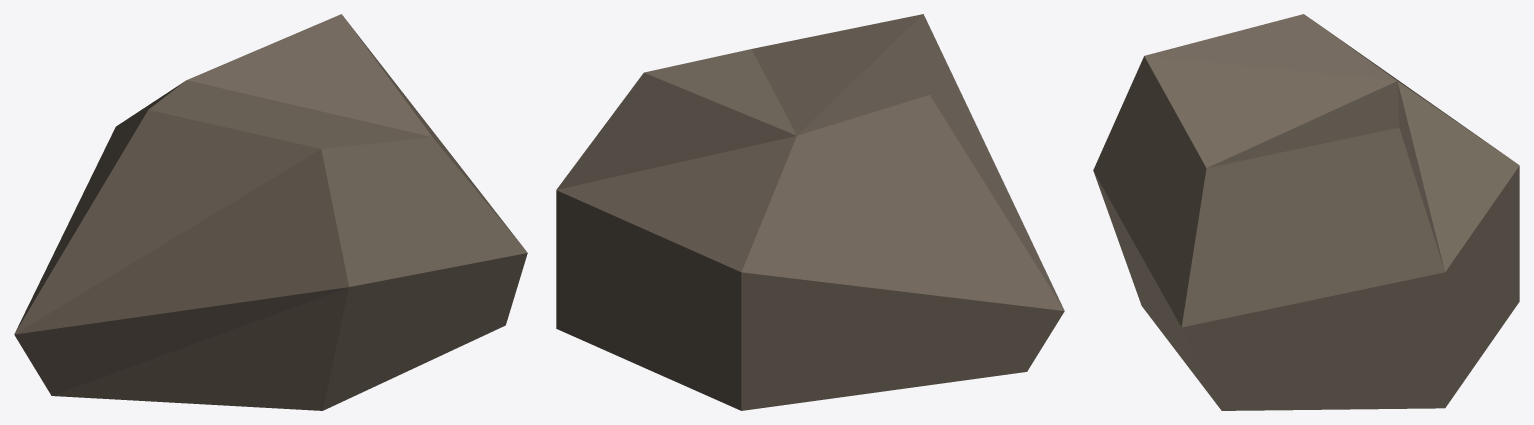
Rendered from ston3.FBX.
The picture shows the model from 3 angles, left to right: view 1: azimuth 30°, elevation 25°; view 2: azimuth 150°, elevation 25°; view 3: azimuth 270°, elevation 25°; orthographic projection. The views are drawn at different scales.
Visible parts, largest first — view 1: Stone_15; view 2: Stone_15; view 3: Stone_15.
Part boxes in pixels (bbox=[...]): Stone_15: bbox=[14, 14, 527, 410]; Stone_15: bbox=[556, 14, 1064, 410]; Stone_15: bbox=[1093, 14, 1519, 410].
Bounding box in the file's own units: 72.48 × 40.01 × 61.87.
